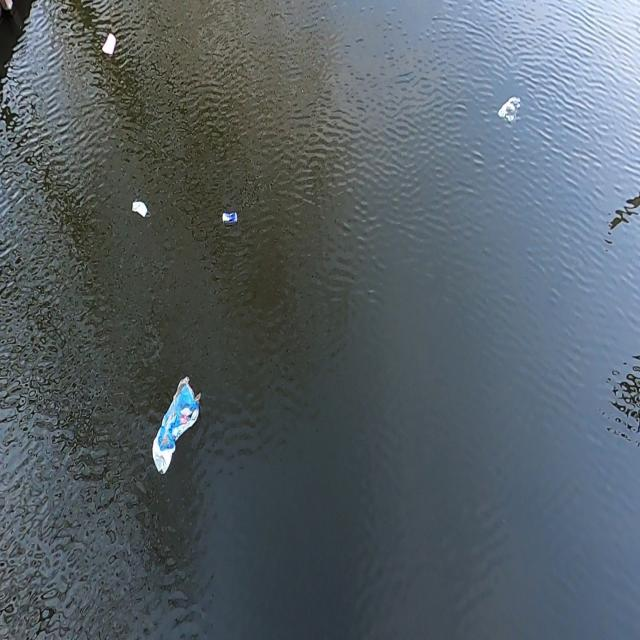Non plastique: (128, 196, 152, 223), (219, 208, 239, 231)
Sac plastique: (150, 369, 205, 481), (496, 89, 522, 130)
